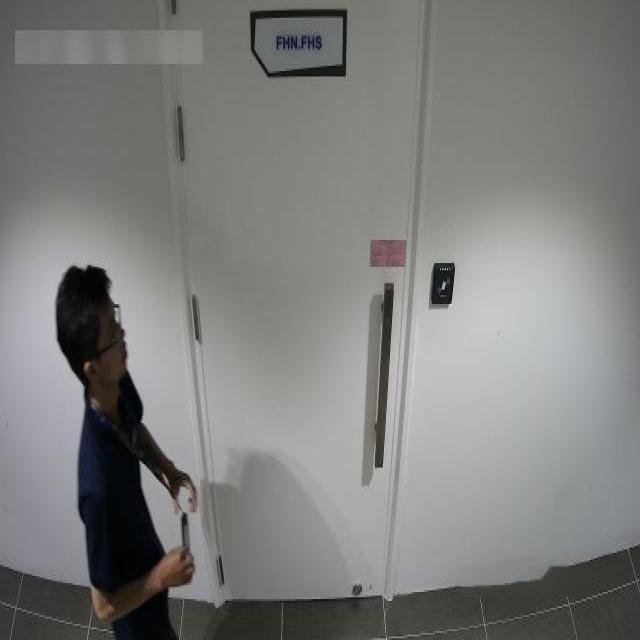bare_hand: (153, 528, 206, 603), (163, 453, 210, 517)
